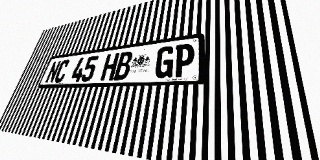4: (69, 57, 88, 82)
5: (80, 55, 99, 82)
B: (113, 51, 134, 80)
C: (53, 59, 71, 83)
G: (154, 45, 175, 78)
H: (100, 53, 120, 81)
N: (44, 60, 62, 83)
P: (173, 43, 195, 78)
